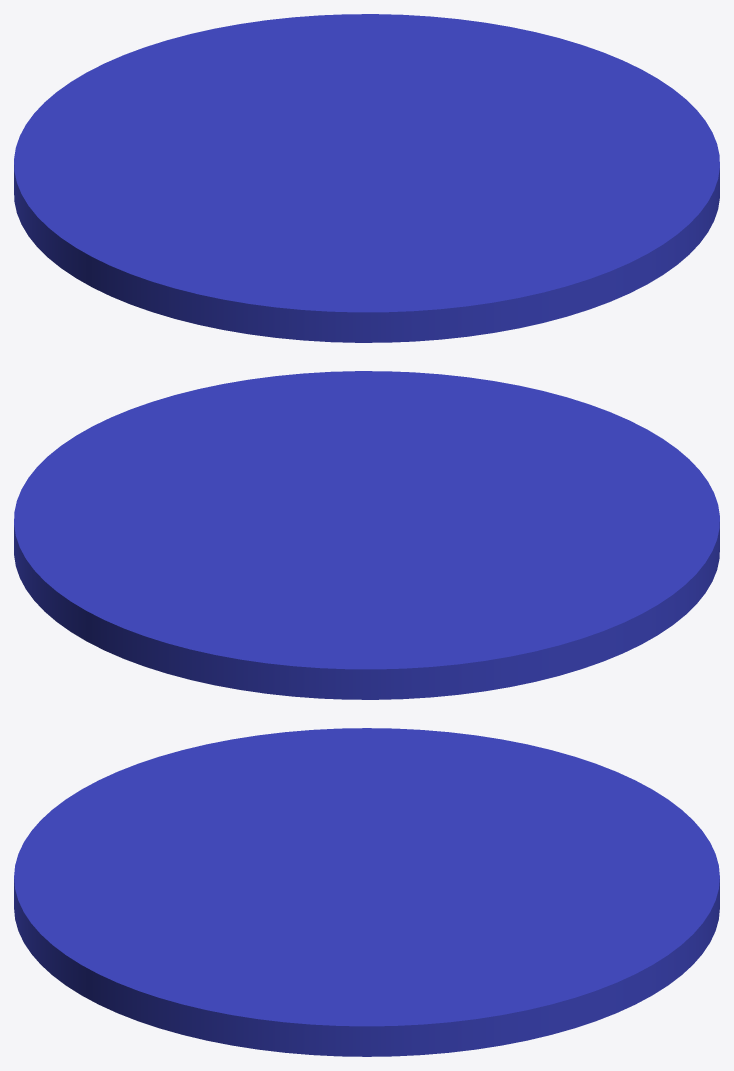
Rendered from dot.obj.
3 renders of one model, top to bottom at view 1: azimuth 30°, elevation 25°; view 2: azimuth 150°, elevation 25°; view 3: azimuth 270°, elevation 25°, orthographic.
Parts seen in each view (by area): view 1: root_mesh_id32; view 2: root_mesh_id32; view 3: root_mesh_id32.
Part boxes in pixels (x1=…): root_mesh_id32: x1=14, y1=14, x2=719, y2=342; root_mesh_id32: x1=14, y1=371, x2=719, y2=699; root_mesh_id32: x1=14, y1=728, x2=719, y2=1056.
Bounding box in the file's own units: 0.2658 × 0.0127 × 0.2658.
